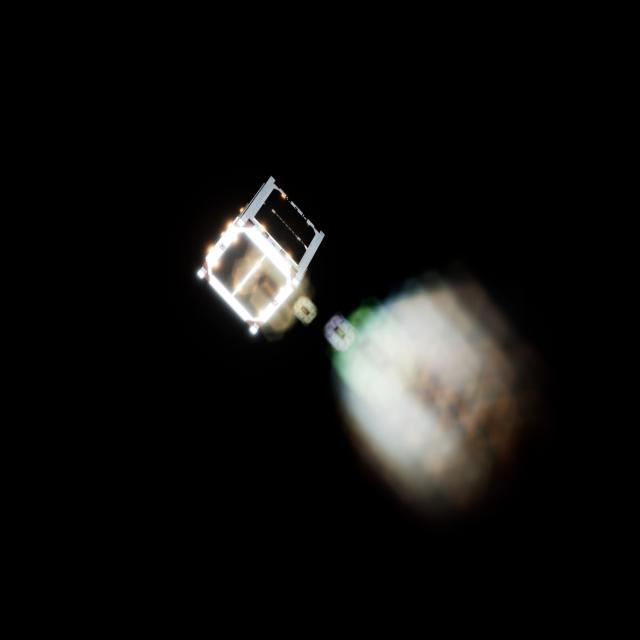medium_debris: (190, 178, 326, 336)
